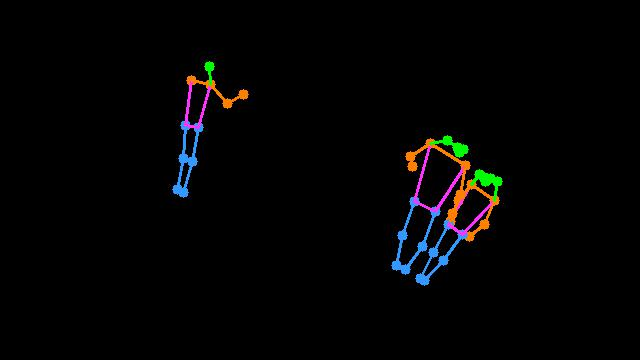normal: (383, 119, 514, 293)
